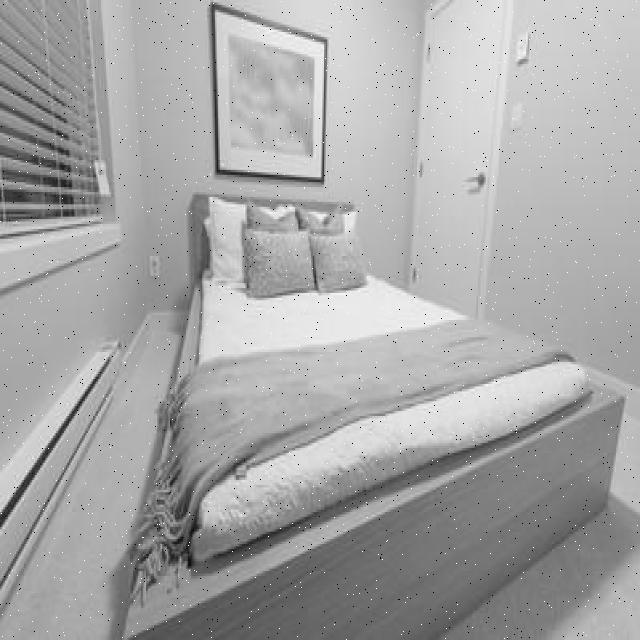bed: (172, 187, 594, 603)
